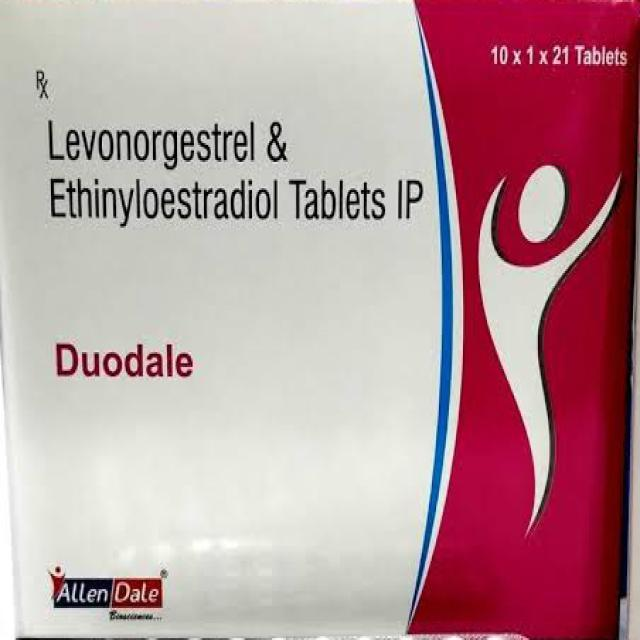drug-name: (54, 326, 195, 388)
